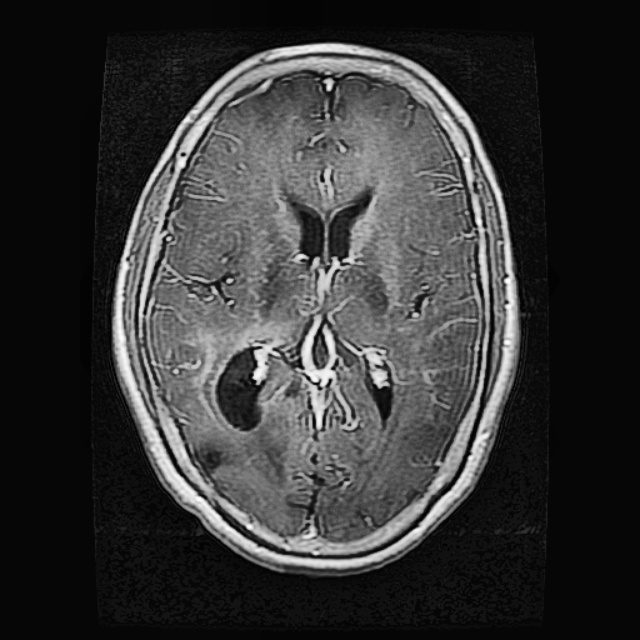Glioma: (194, 445, 224, 473)
